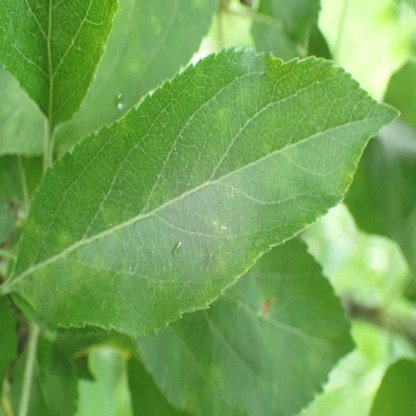frogeye_leaf_spot: (263, 300, 270, 315)
scab: (265, 161, 291, 186), (69, 251, 83, 290), (33, 264, 50, 287), (209, 366, 222, 392), (220, 109, 232, 135), (282, 145, 300, 159), (57, 230, 71, 247), (215, 256, 225, 272)
